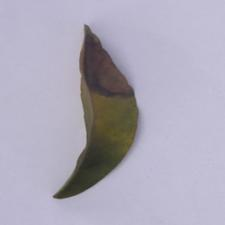Black: (68, 19, 156, 115)
